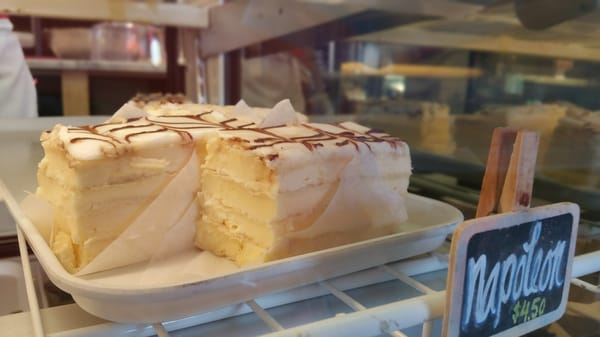sushi: (191, 119, 412, 266), (30, 122, 201, 276)
